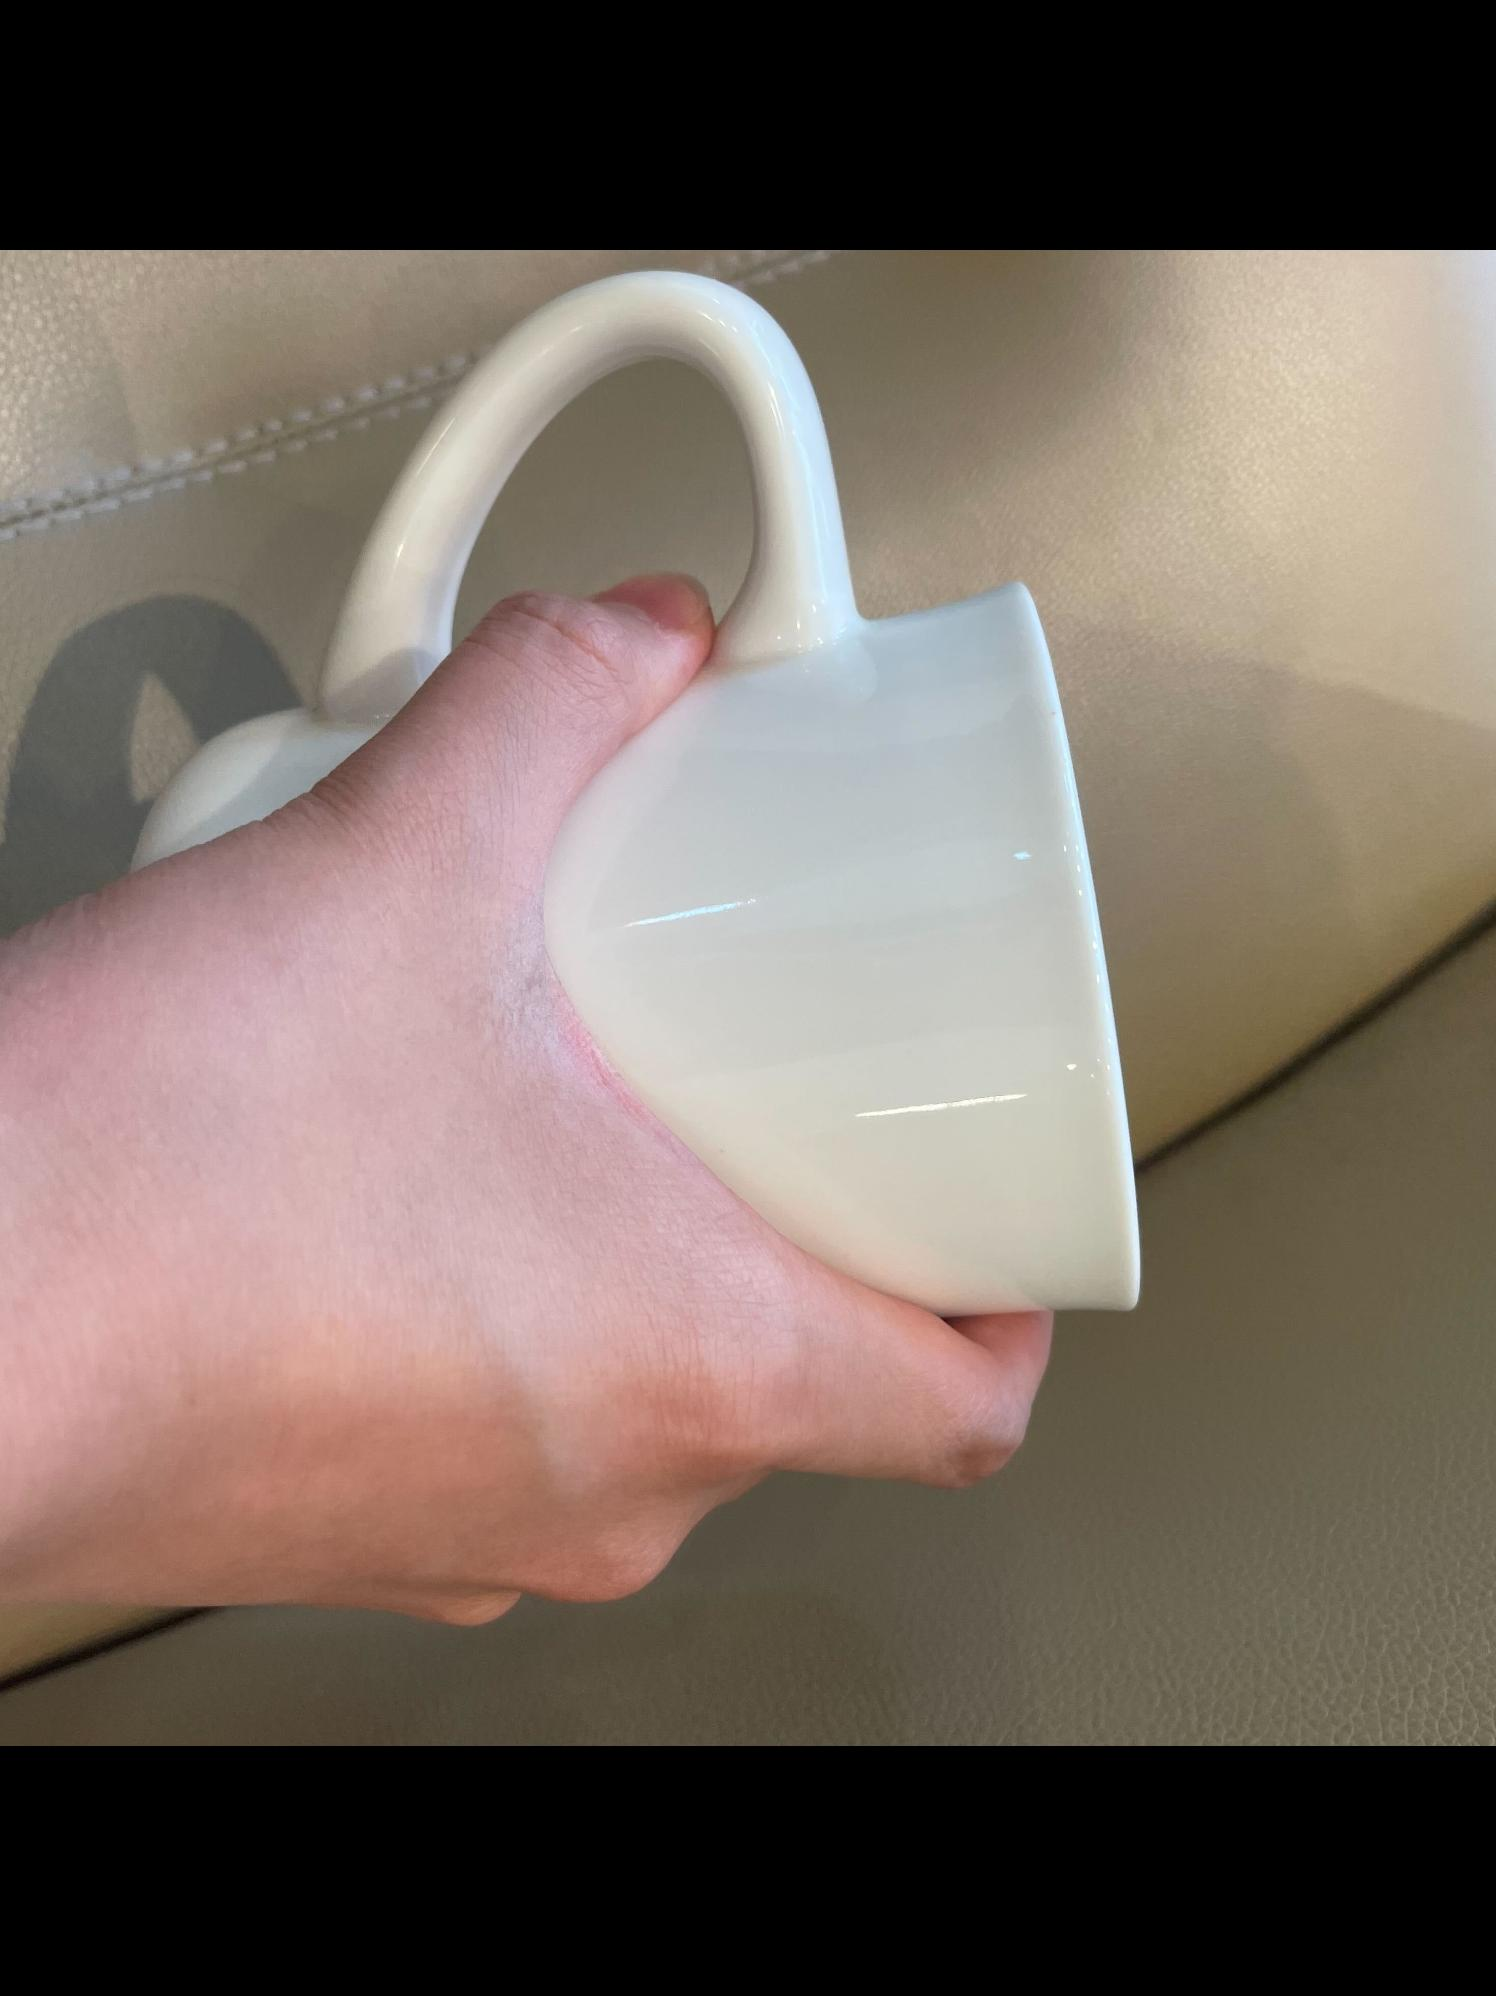cup: (0, 250, 1168, 1674)
